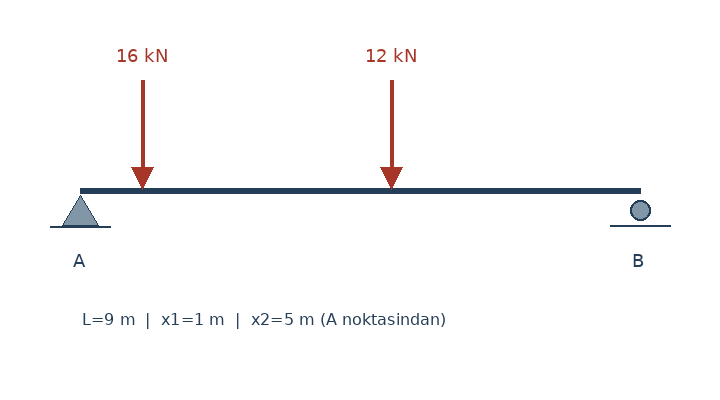pin_support: (61, 190, 99, 226)
point_load: (128, 76, 156, 190), (377, 76, 405, 190)
roller_support: (625, 196, 655, 227)
